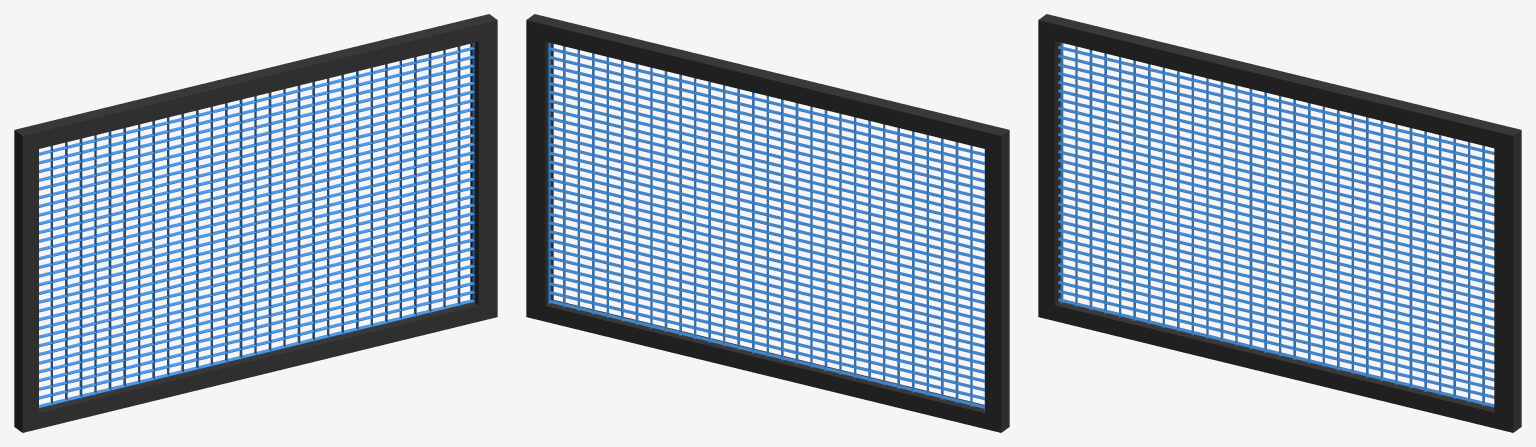
File: boşluklu-zemin.fbx
3 renders of one model, left to right at view 1: azimuth 30°, elevation 25°; view 2: azimuth 150°, elevation 25°; view 3: azimuth 330°, elevation 25°, orthographic.
Visible parts, largest first — view 1: Plane.001; view 2: Plane.001; view 3: Plane.001.
Boxes of the visible parts, <box> form: Plane.001: <box>14,14,497,432</box>; Plane.001: <box>526,14,1009,432</box>; Plane.001: <box>1038,14,1521,432</box>.
Size of the model in its own units: 3.57 by 2.13 by 0.1083.
